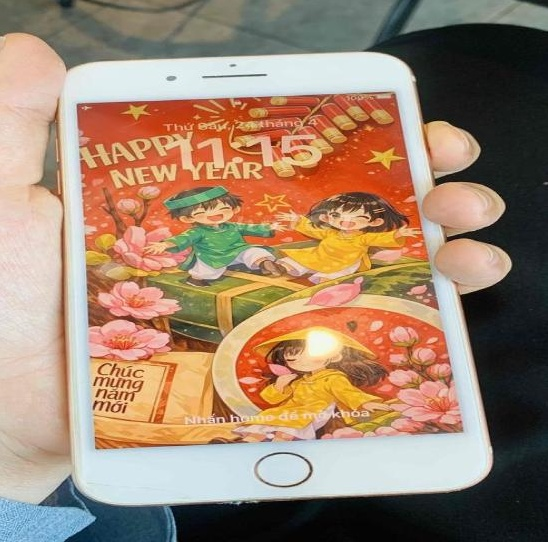scratch: (71, 475, 264, 506), (92, 57, 297, 83)
